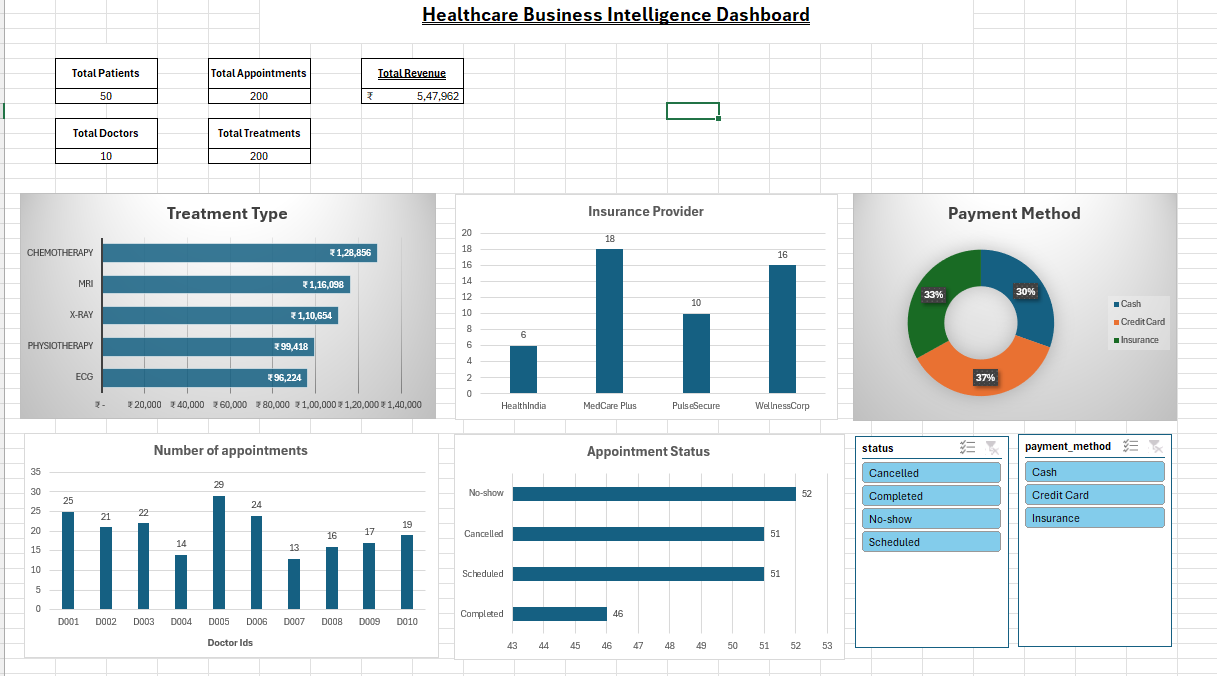

The dashboard page shown, as its layout file describes it:
{"tool":"powerbi","page":{"name":"Healthcare Business Intelligence Dashboard","canvas":[1280,720],"ordinal":0},"visuals":[{"type":"cardVisual","fields":{"Data":["Measures (2).Total Appointments"]},"box":[1072,310.2,173.1,101],"z":0},{"type":"cardVisual","fields":{"Data":["Measures (2).Total Doctors"]},"box":[1090.7,197.7,154.4,112.5],"z":1000},{"type":"cardVisual","fields":{"Data":["Measures (2).Total Patients"]},"box":[894.5,310.2,163,101],"z":2000},{"type":"cardVisual","fields":{"Data":["Measures (2).Total Treatments"]},"box":[888.7,204.9,219.3,98.1],"z":3000},{"type":"cardVisual","fields":{"Data":["Measures (2).Total Revenue"]},"box":[1053.2,86.6,204.9,119.7],"z":4000},{"type":"clusteredBarChart","title":"Revenue per treatment","fields":{"Y":["Sum(treatments.cost)"],"Category":["treatments.treatment_type"]},"box":[8.7,209.2,424.2,245.3],"z":5000},{"type":"clusteredColumnChart","title":"Appointment Status","fields":{"Y":["CountNonNull(appointments.appointment_id)"],"Category":["appointments.status"]},"box":[492,204.9,396.8,245.3],"z":6000},{"type":"barChart","title":"Doctor Workload","fields":{"Y":["CountNonNull(appointments.appointment_id)"],"Category":["appointments.doctor_id"]},"box":[880.1,427.1,378,292.9],"z":7000},{"type":"donutChart","title":"Revenue by Payment Method","fields":{"Category":["billing.payment_method"],"Y":["CountNonNull(billing.payment_method)"]},"box":[21.6,460.2,441.5,249.6],"z":8000},{"type":"clusteredBarChart","title":"Patients by Insurance Provider","fields":{"Category":["patients.insurance_provider"],"Y":["CountNonNull(patients.patient_id)"]},"box":[492,450.1,396.8,269.8],"z":9000},{"type":"textbox","box":[405.7,14.3,515.7,71.4],"z":10000},{"type":"cardVisual","fields":{"Data":["Measures (2).Average Revenue per Appointment"]},"box":[577.1,85.1,317.4,101],"z":11000},{"type":"cardVisual","fields":{"Data":["Measures (2).Completion Rate"]},"box":[888.7,85.1,193.3,124.1],"z":12000},{"type":"slicer","fields":{"Values":["appointments.status"]},"box":[102.4,41.8,217.9,144.3],"z":13000}]}

Visuals, with their boxes in screenshot pixels (x1, y1, x2, y2), scaled from the page's 1280x720 canvas onto the 1217x676 screenshot:
cardVisual - Measures (2).Total Appointments: (1019, 291, 1184, 386)
cardVisual - Measures (2).Total Doctors: (1037, 186, 1184, 291)
cardVisual - Measures (2).Total Patients: (850, 291, 1005, 386)
cardVisual - Measures (2).Total Treatments: (845, 192, 1053, 284)
cardVisual - Measures (2).Total Revenue: (1001, 81, 1196, 194)
"Revenue per treatment" clusteredBarChart: (8, 196, 412, 427)
"Appointment Status" clusteredColumnChart: (468, 192, 845, 423)
"Doctor Workload" barChart: (837, 401, 1196, 675)
"Revenue by Payment Method" donutChart: (21, 432, 440, 666)
"Patients by Insurance Provider" clusteredBarChart: (468, 423, 845, 675)
textbox: (386, 13, 876, 80)
cardVisual - Measures (2).Average Revenue per Appointment: (549, 80, 850, 175)
cardVisual - Measures (2).Completion Rate: (845, 80, 1029, 196)
slicer - appointments.status: (97, 39, 305, 175)
